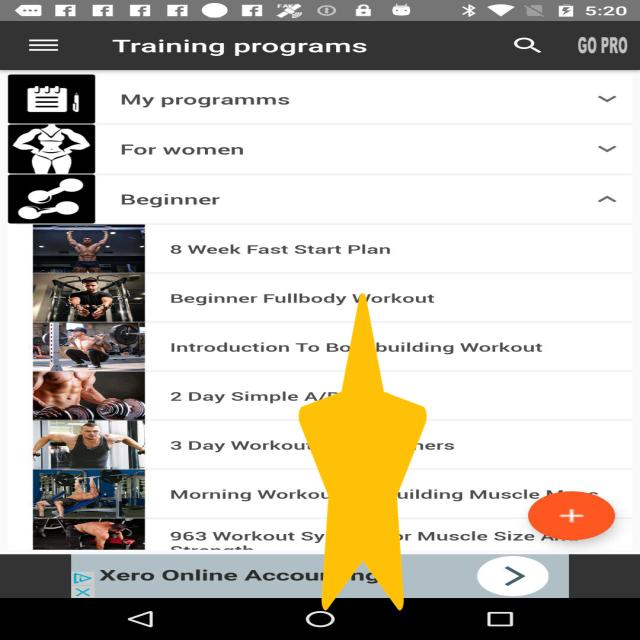forced continuity: (298, 293, 426, 611)
